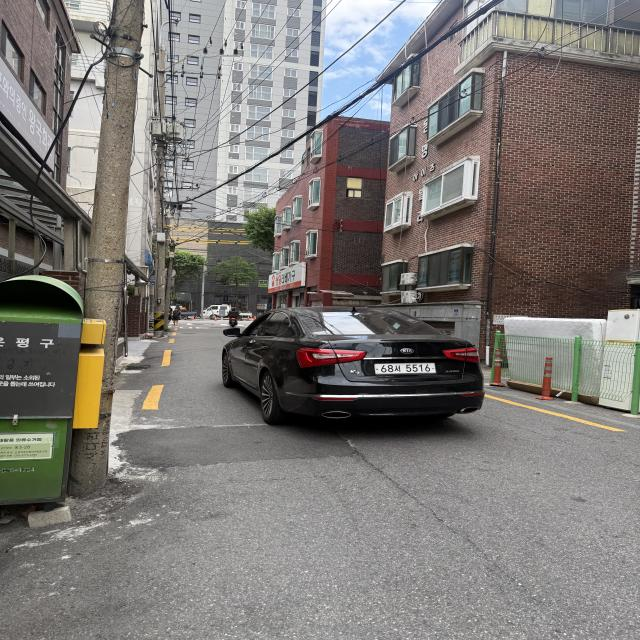car: (196, 288, 516, 451)
